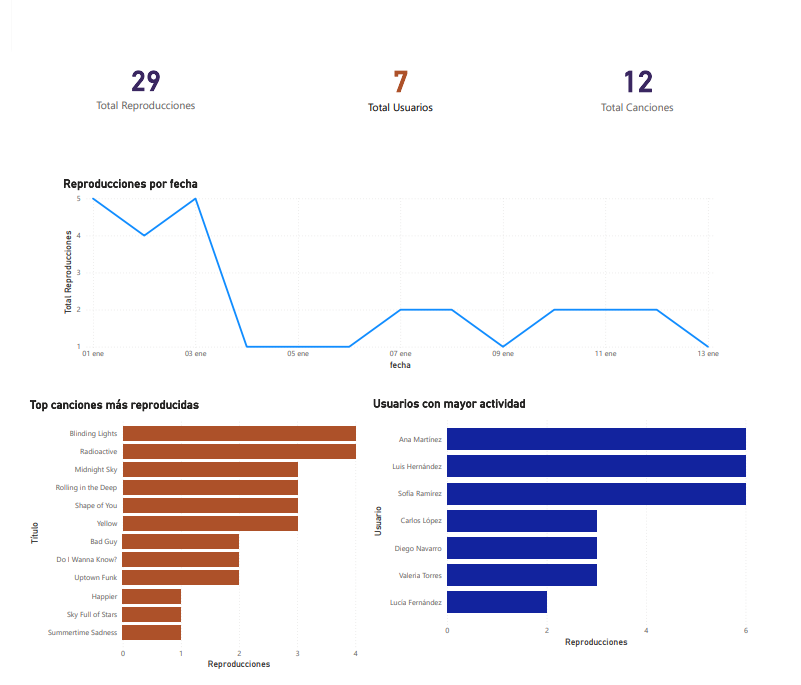

What the dashboard file says about the page in this screenshot:
{"tool":"powerbi","page":{"name":"Page 1","canvas":[1280,1200],"ordinal":0},"visuals":[{"type":"card","fields":{"Values":["artistas.Total Reproducciones"]},"box":[80.6,77.3,280.5,280.5],"z":0},{"type":"card","fields":{"Values":["artistas.Total canciones"]},"box":[888.6,77.3,282.2,282.2],"z":1000},{"type":"card","fields":{"Values":["artistas.Total Usuarios"]},"box":[498.9,77.3,282.2,282.2],"z":2000},{"type":"lineChart","title":"Reproducciones por fecha","fields":{"Y":["artistas.Total Reproducciones"],"Category":["reproducciones.fecha"]},"box":[94.6,358.5,1090.5,323.7],"z":3000},{"type":"clusteredBarChart","title":"Top canciones más reproducidas","fields":{"Y":["CountNonNull(reproducciones.id_reproduccion)"],"Category":["canciones.titulo"]},"box":[25,733.3,550,451.7],"z":4000},{"type":"clusteredBarChart","title":"Usuarios con mayor actividad","fields":{"Category":["usuarios.nombre"],"Y":["CountNonNull(reproducciones.id_reproduccion)"]},"box":[589.7,731,627.6,417.2],"z":5000}]}

Visuals, with their boxes on the page's 1280x1200 design canvas (x1, y1, x2, y2). These are canvas units, not pixel positions in the 801x685 screenshot, which may show the page scaled, cropped or inside an application window:
card - artistas.Total Reproducciones: {"left": 81, "top": 77, "right": 361, "bottom": 358}
card - artistas.Total canciones: {"left": 889, "top": 77, "right": 1171, "bottom": 360}
card - artistas.Total Usuarios: {"left": 499, "top": 77, "right": 781, "bottom": 360}
"Reproducciones por fecha" lineChart: {"left": 95, "top": 358, "right": 1185, "bottom": 682}
"Top canciones más reproducidas" clusteredBarChart: {"left": 25, "top": 733, "right": 575, "bottom": 1185}
"Usuarios con mayor actividad" clusteredBarChart: {"left": 590, "top": 731, "right": 1217, "bottom": 1148}
